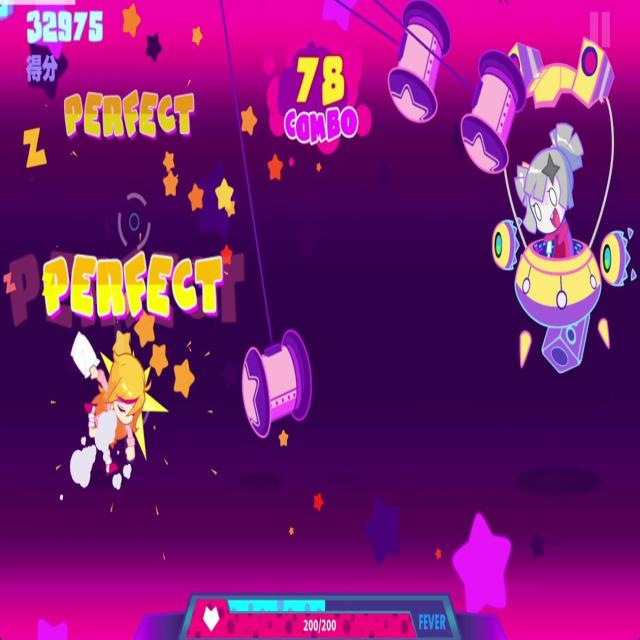cheboss: (490, 21, 640, 361)
gu: (460, 47, 530, 182), (242, 330, 315, 441), (391, 0, 449, 123)
